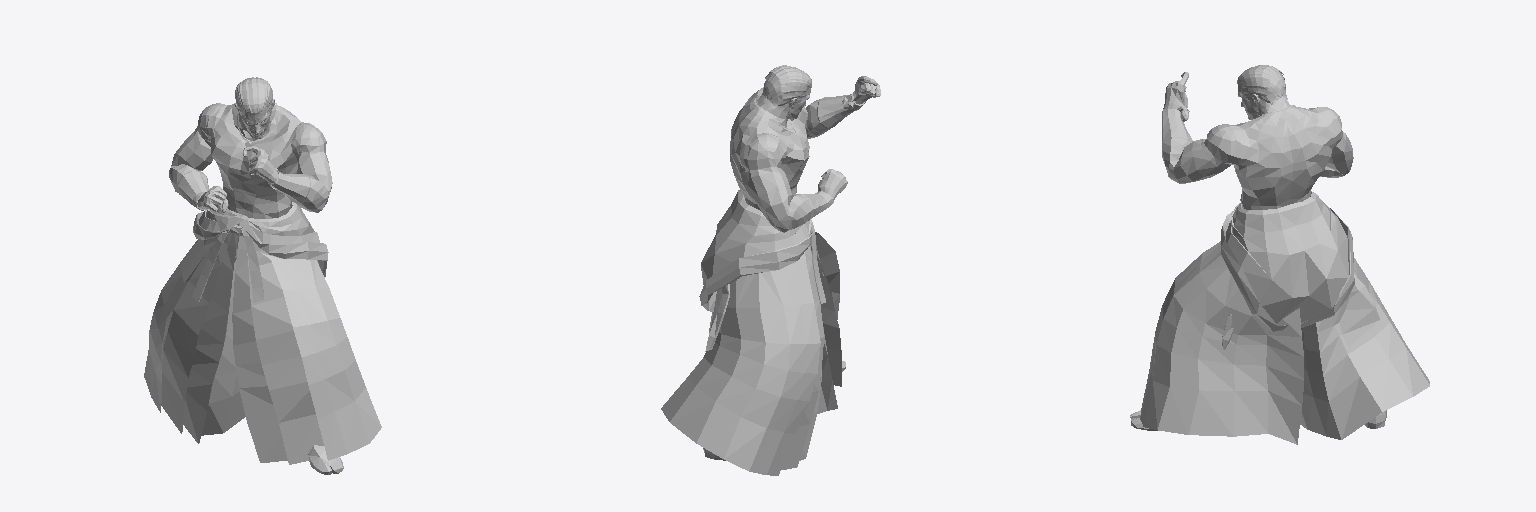
File: geese_attack_000014.obj
The picture shows the model from 3 angles: view 1: azimuth 30°, elevation 25°; view 2: azimuth 150°, elevation 25°; view 3: azimuth 270°, elevation 25°; orthographic projection.
Visible parts, largest first — view 1: GamemodelShape1.002, hairShape; view 2: GamemodelShape1.002, hairShape; view 3: GamemodelShape1.002, hairShape.
Part boxes in pixels (x1,y1,x2,y2): GamemodelShape1.002: (144,99,381,474); hairShape: (235,77,272,114); GamemodelShape1.002: (661,76,880,475); hairShape: (760,65,811,108); GamemodelShape1.002: (1130,72,1429,444); hairShape: (1237,65,1287,105).
Size of the model in its own units: 1.99 by 4.9 by 3.62.